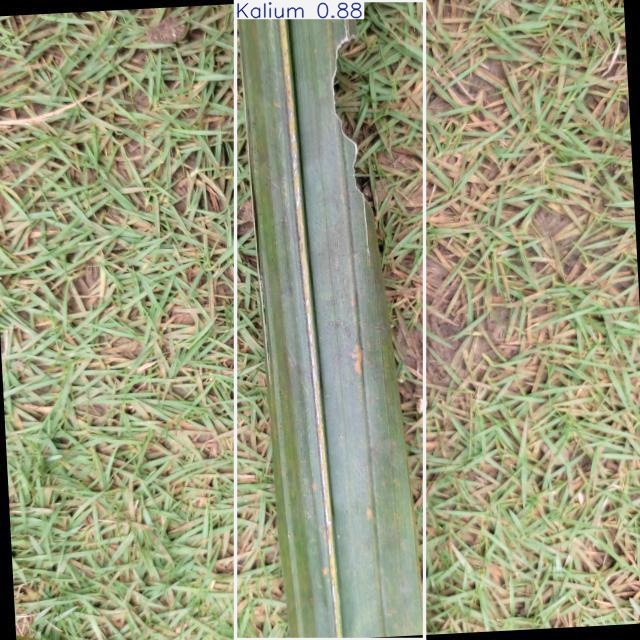Kalium: (235, 0, 424, 640)
